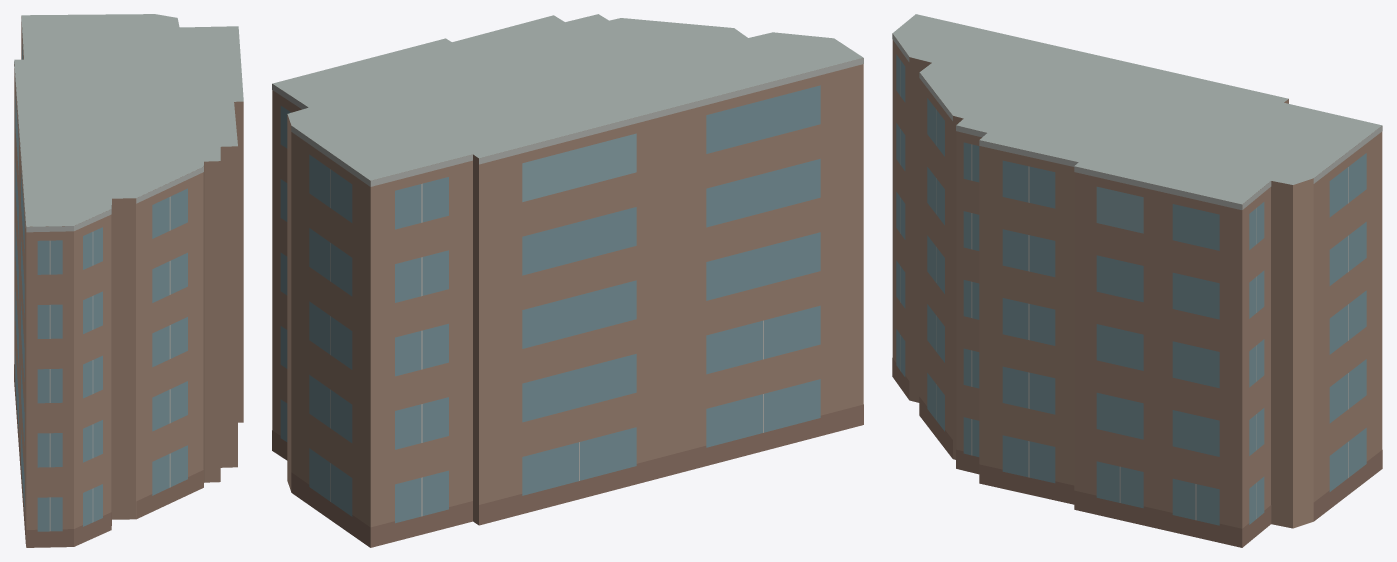
Rendered from survey-upis-32953307.glb.
3 renders of one model, left to right at view 1: azimuth 30°, elevation 25°; view 2: azimuth 150°, elevation 25°; view 3: azimuth 270°, elevation 25°, orthographic. The views are drawn at different scales.
Visible parts, largest first — view 1: survey-upis-32953307.tmp; view 2: survey-upis-32953307.tmp; view 3: survey-upis-32953307.tmp.
Part boxes in pixels (x1,y1,x2,y2): survey-upis-32953307.tmp: [14, 14, 243, 547]; survey-upis-32953307.tmp: [272, 14, 863, 547]; survey-upis-32953307.tmp: [892, 14, 1382, 547].
Bounding box in the file's own units: 17.14 × 14.4 × 18.63.
